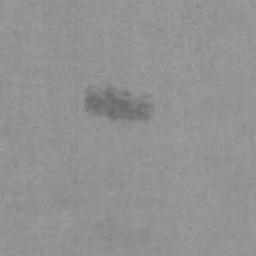Inclusion: (83, 82, 157, 123)
